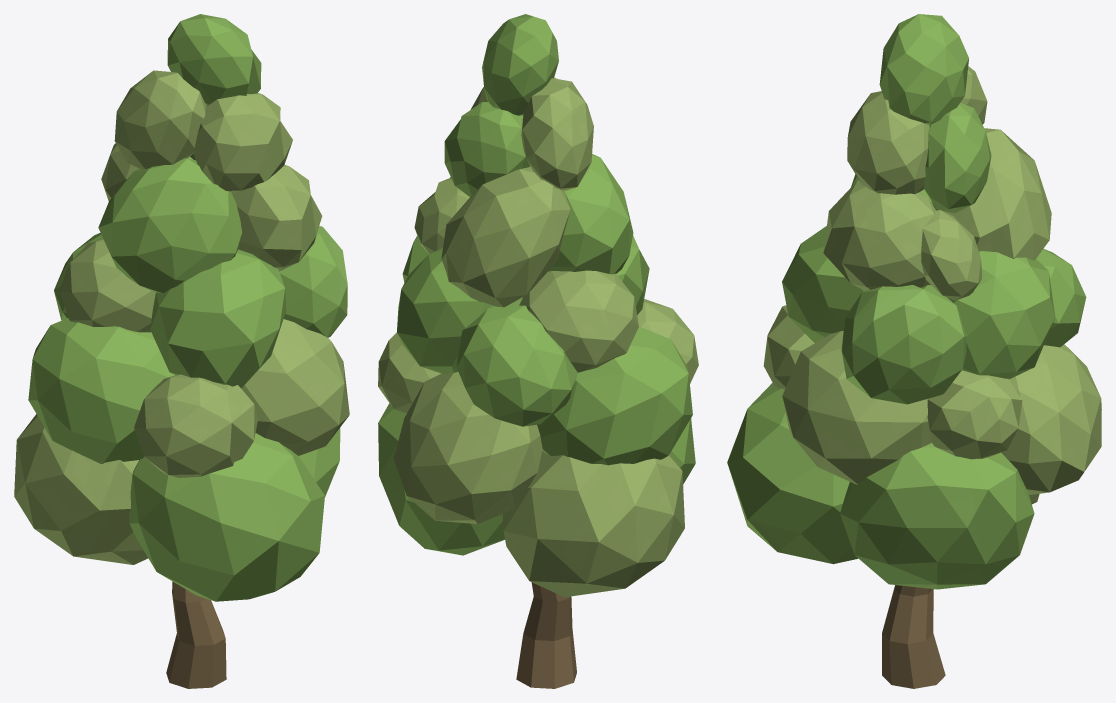
Rendered from Poplar_Tree.glb.
3 views of the same model, side by side, from view 1: azimuth 30°, elevation 25°; view 2: azimuth 150°, elevation 25°; view 3: azimuth 270°, elevation 25° (orthographic). The views are drawn at different scales.
Parts seen in each view (by area): view 1: Poplar; view 2: Poplar; view 3: Poplar.
Part boxes in pixels (x1,y1,x2,y2): Poplar: (14, 14, 349, 688); Poplar: (378, 14, 698, 688); Poplar: (727, 14, 1101, 688).
Bounding box in the file's own units: 2.69 × 5.82 × 2.96.
Materials: 1 (1 with a texture image).
